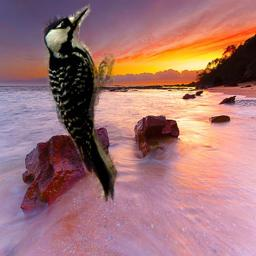Woodpecker: (34, 1, 133, 218)
